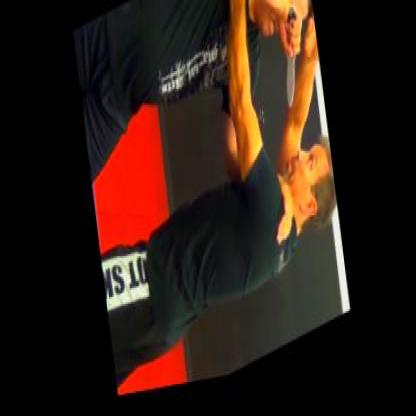knife: (272, 10, 310, 125)
